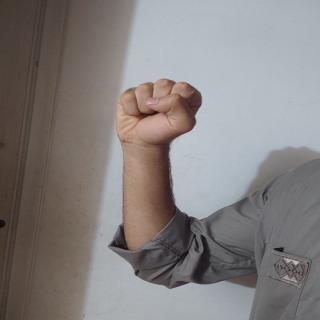SAD: (107, 75, 204, 168)
